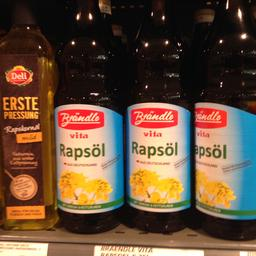oil: (122, 1, 194, 233), (52, 0, 124, 230), (193, 0, 255, 240), (0, 0, 55, 229)
